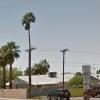Palm tree: (13, 3, 45, 82)
